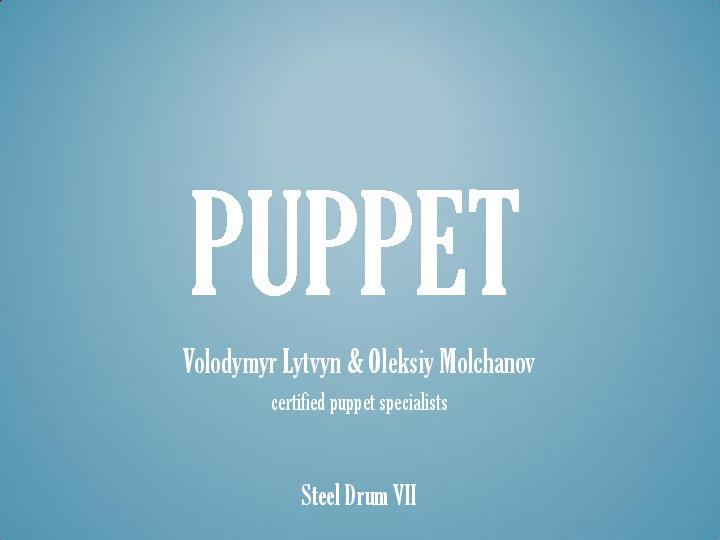title: (180, 163, 538, 321), (170, 337, 568, 446)
